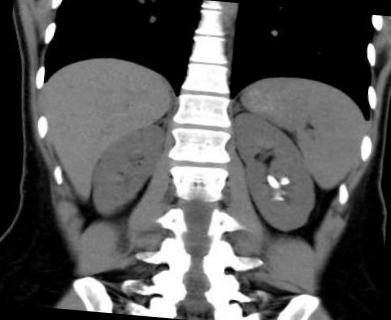Tas_Var: (264, 173, 282, 190), (278, 176, 294, 187), (276, 196, 287, 202)
